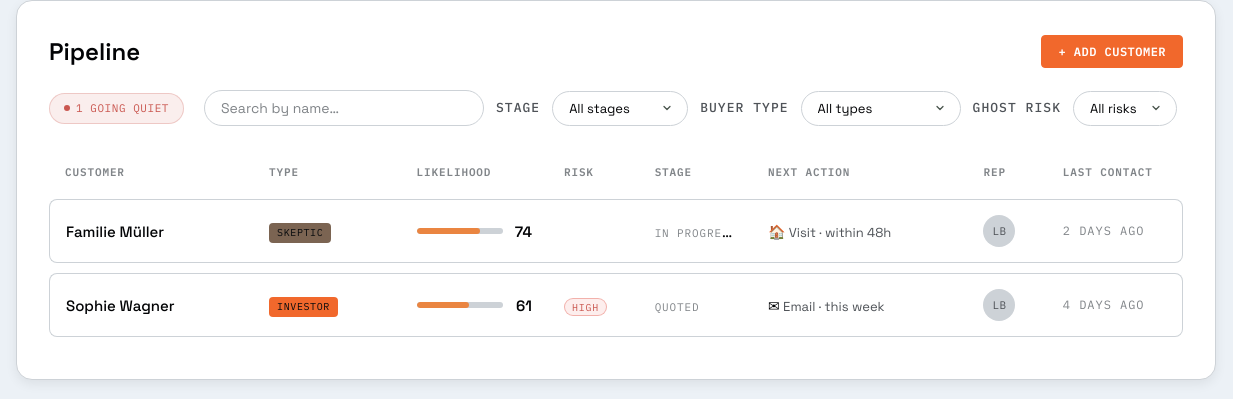
Scenario: Dashboard › buyer-type filter shows only rows matching the selected buyer type
Expected: the text "Familie Müller" is shown, [66,222,164,241]
Select "Investor" in the dropdown labelled "Buyer type" at (881, 108), box [801,91,961,126]
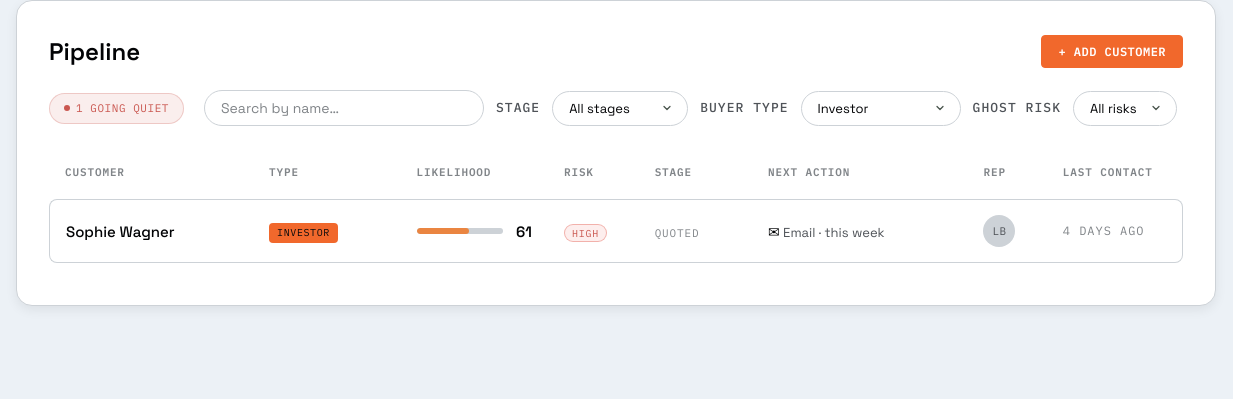
Expected: the text "Sophie Wagner" is shown, [66,222,175,241]
Now the text "Familie Müller" is gone
